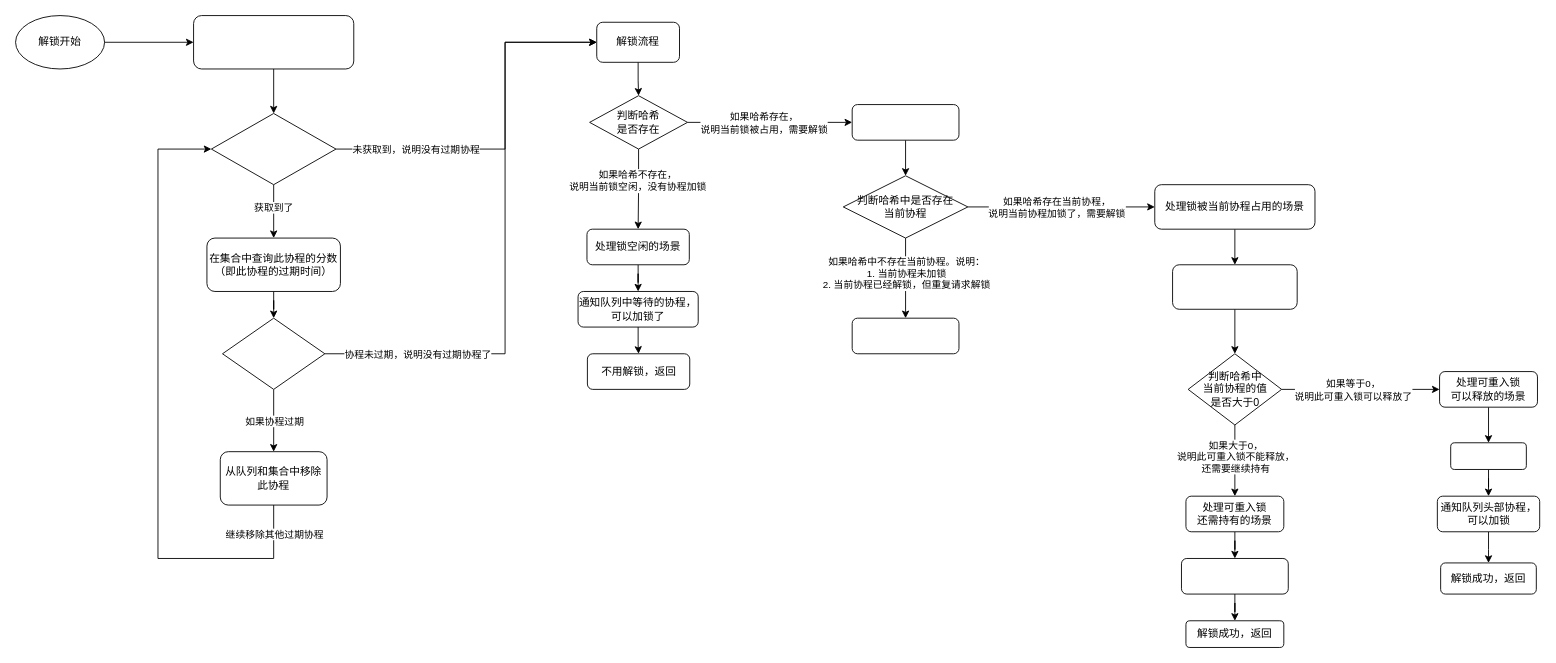
This 1556x663 diagram has some shape labels left out. Here are the shapes that lost their labels. From the top down, the box of each, then its label:
(193, 15, 354, 69): 从队列和集合中移除过期协程
(851, 104, 959, 140): 处理锁被占用的场景
(210, 113, 336, 185): 获取队列头部协程
(1172, 264, 1297, 309): 哈希中当前协程的值减一 （实现可重入锁）
(222, 317, 325, 389): 此协程是否过期
(851, 317, 959, 354): 非法行为，直接返回
(1450, 442, 1526, 469): 删除哈希
(1181, 558, 1288, 594): 重置哈希的过期时间
